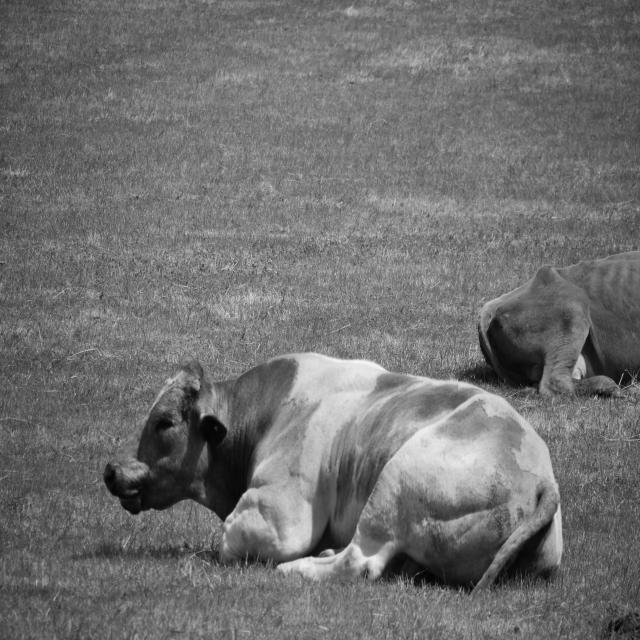cow: (104, 353, 562, 590), (478, 252, 640, 397)
